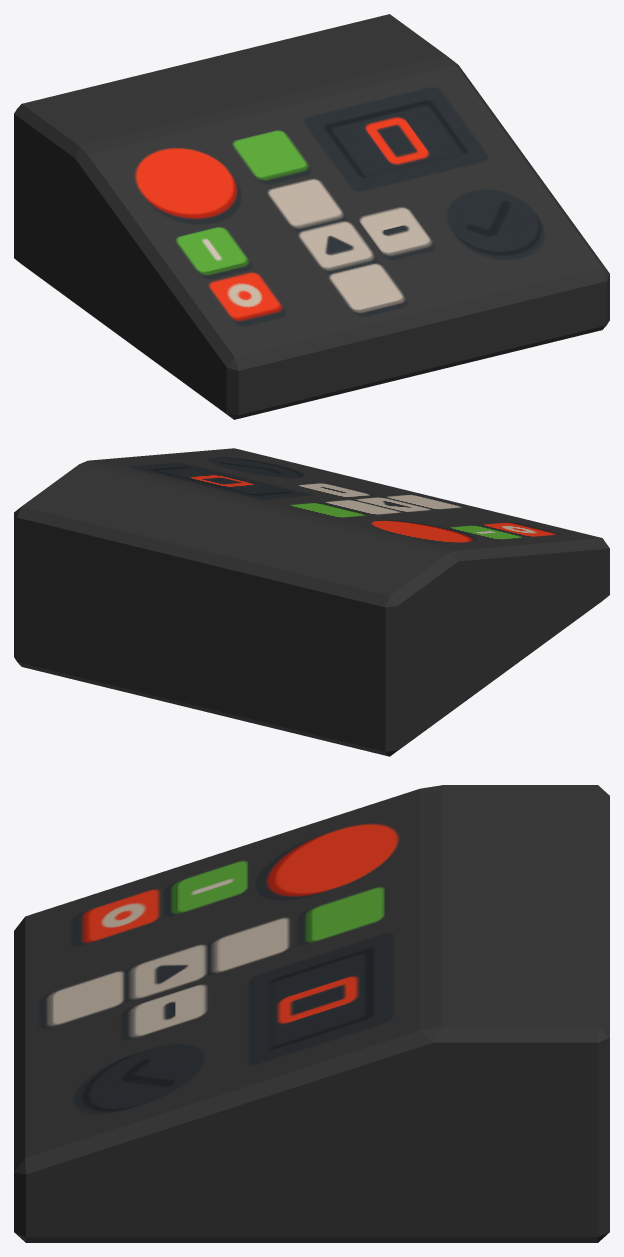
File: HJD_SFB_ControlPanel_02.fbx
3 renders of one model, top to bottom at view 1: azimuth 30°, elevation 25°; view 2: azimuth 150°, elevation 25°; view 3: azimuth 270°, elevation 25°, orthographic. The views are drawn at different scales.
Visible parts, largest first — view 1: Buttons_Surface, Base; view 2: Base, Buttons_Surface; view 3: Base, Buttons_Surface.
Boxes of the visible parts, <box> form: Buttons_Surface: <box>88,65,602,356</box>; Base: <box>14,14,609,419</box>; Base: <box>14,460,609,756</box>; Buttons_Surface: <box>89,448,601,550</box>; Base: <box>14,785,609,1242</box>; Buttons_Surface: <box>25,789,419,1157</box>.
Size of the model in its own units: 100 by 40 by 100.
